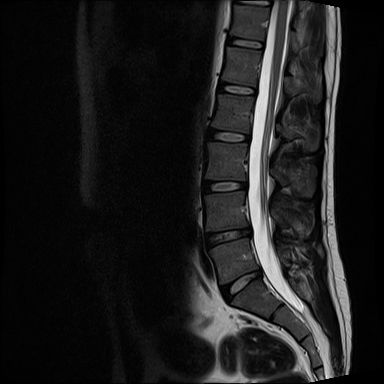Lumbar Disc Bulge (LDB): (198, 220, 256, 257)
Normal IVD: (210, 262, 264, 309), (194, 173, 252, 197), (198, 124, 252, 147), (215, 75, 257, 98), (223, 33, 265, 51)
